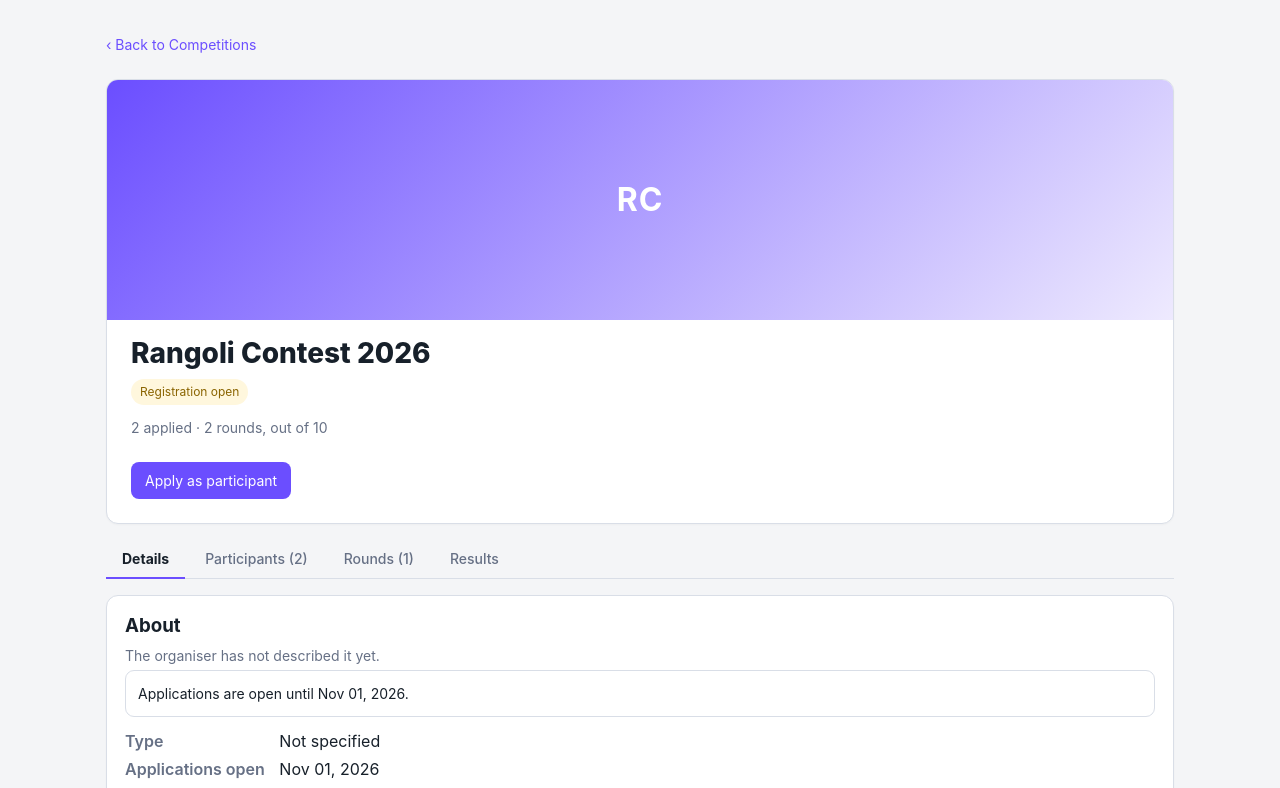
Test: CompetitionDetailComponent › names the reader "You", a resolved member by name, and anybody else "A member"
Step 1. Click the tab "Participants (2)" → (256, 560), box [189,540,324,579]
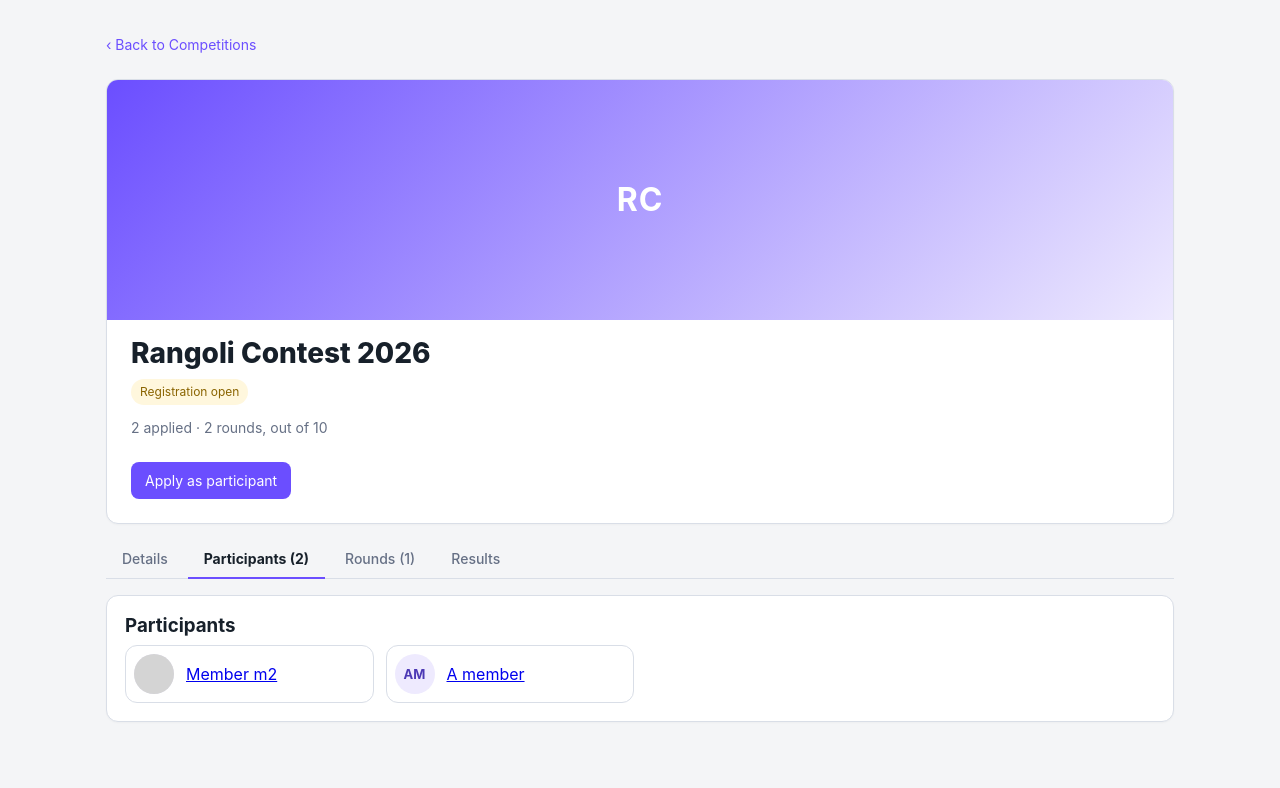
Expected: the link "Member m2" is shown, [186,662,277,686]
Expected: the link "A member" is shown, [446,662,524,686]
